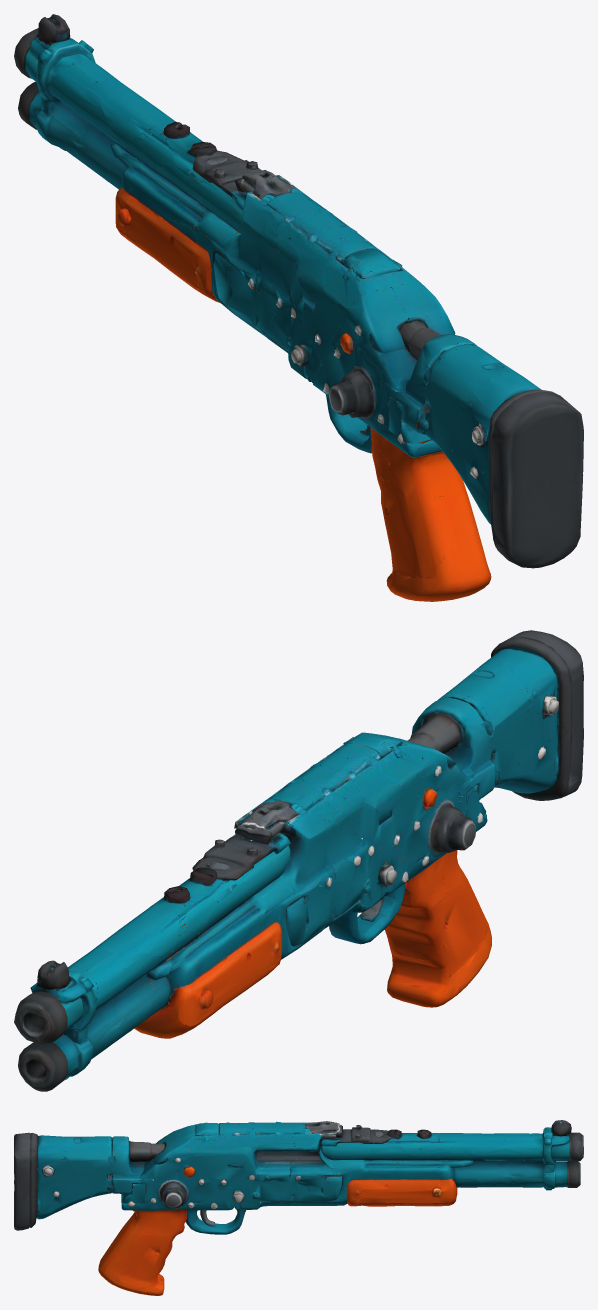
File: shotgun.glb
3 views of the same model, one above another, from view 1: azimuth 30°, elevation 25°; view 2: azimuth 150°, elevation 25°; view 3: azimuth 270°, elevation 25° (orthographic). The views are drawn at different scales.
Parts seen in each view (by area): view 1: gun; view 2: gun; view 3: gun.
Boxes of the visible parts, x1,y1,x2,y2 form: gun: (14,14,583,601); gun: (14,630,583,1091); gun: (14,1120,583,1295).
Size of the model in its own units: 0.159 by 0.3442 by 1.05.
Materials: 14 (14 with a texture image).
